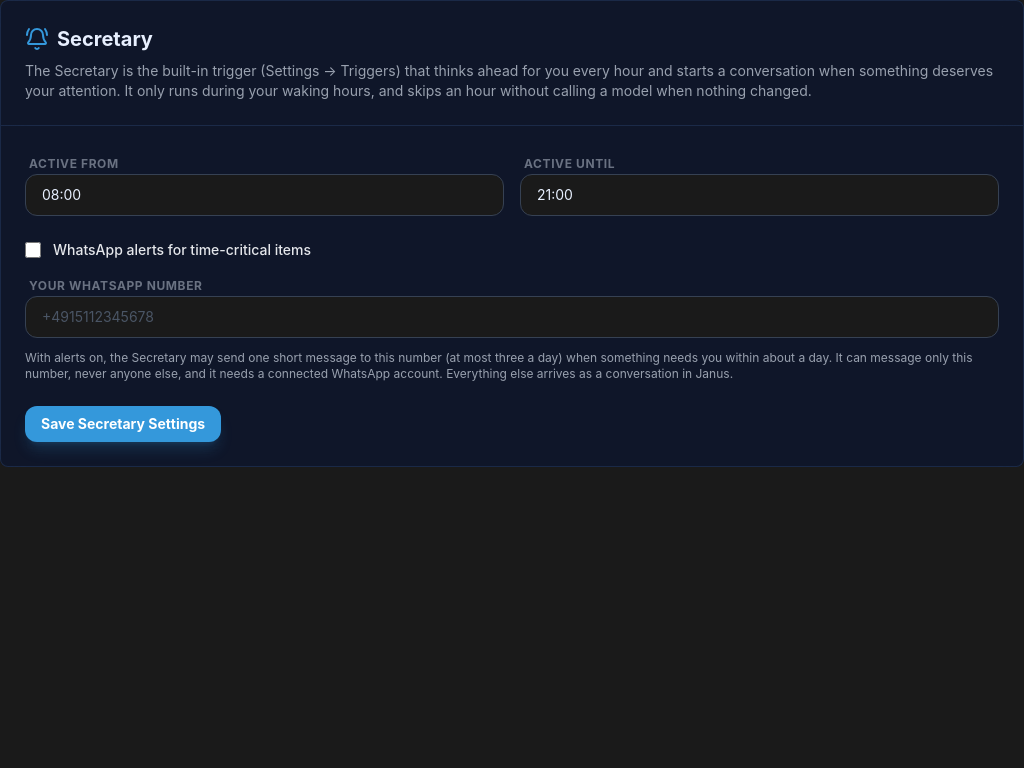
Test case: SecretarySettings › shows the server message when a number or window is rejected
Type "0151" into the field labelled "Your WhatsApp number" at (512, 317), box [25, 296, 999, 338]
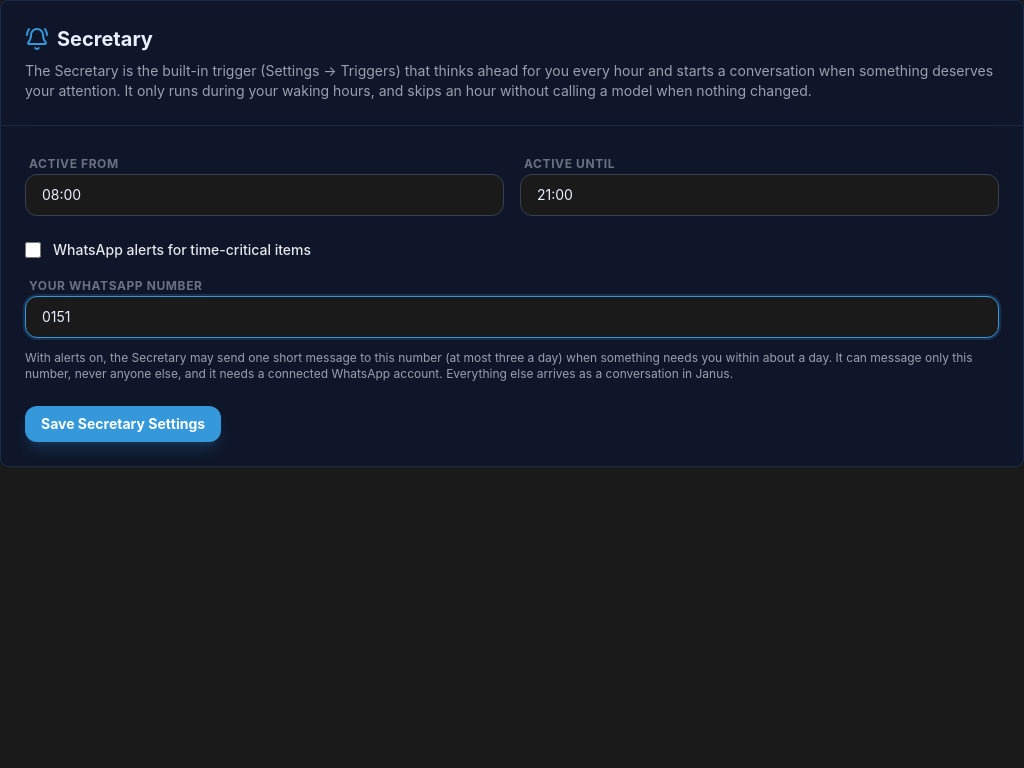
Click the button "Save Secretary Settings" at (123, 424), box [25, 406, 221, 442]
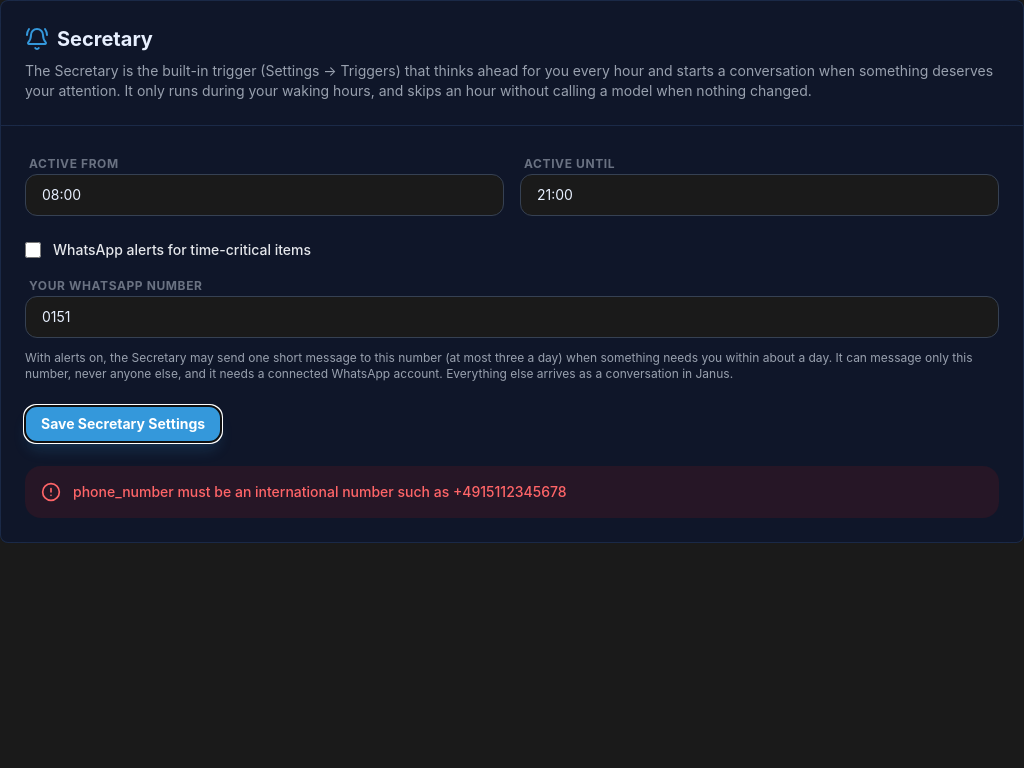
Now the text "international number" is shown, box [73, 483, 567, 500]
